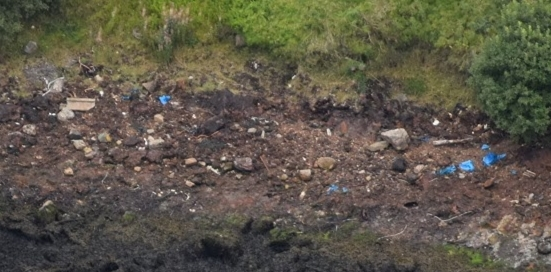scattered_barrel: (435, 140, 513, 182)
straight_bar: (430, 131, 480, 150)
together_barrel: (37, 53, 179, 111)
white_in_green: (314, 169, 362, 210)
